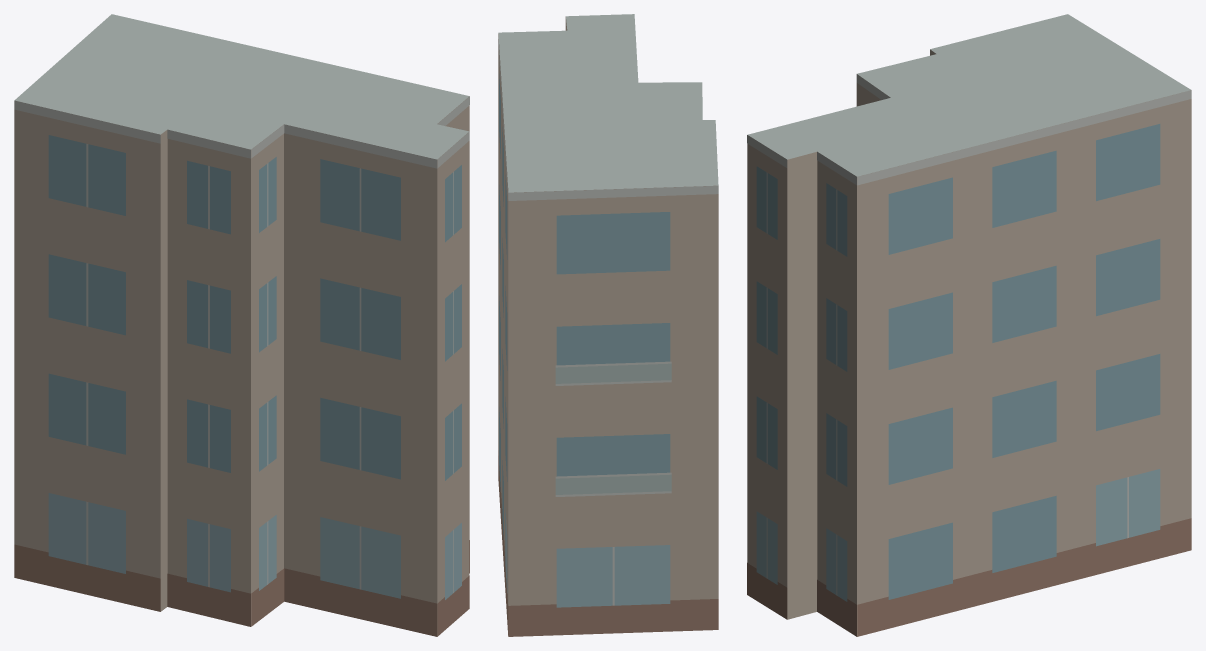
The model's file is survey-upis-32979322.glb.
3 renders of one model, left to right at view 1: azimuth 30°, elevation 25°; view 2: azimuth 150°, elevation 25°; view 3: azimuth 270°, elevation 25°, orthographic. The views are drawn at different scales.
Parts seen in each view (by area): view 1: survey-upis-32979322.tmp; view 2: survey-upis-32979322.tmp; view 3: survey-upis-32979322.tmp.
Part boxes in pixels (x1,y1,x2,y2): survey-upis-32979322.tmp: (14, 14, 469, 636); survey-upis-32979322.tmp: (498, 14, 718, 636); survey-upis-32979322.tmp: (747, 14, 1191, 636).
Size of the model in its own units: 9.72 by 12.8 by 11.21.
